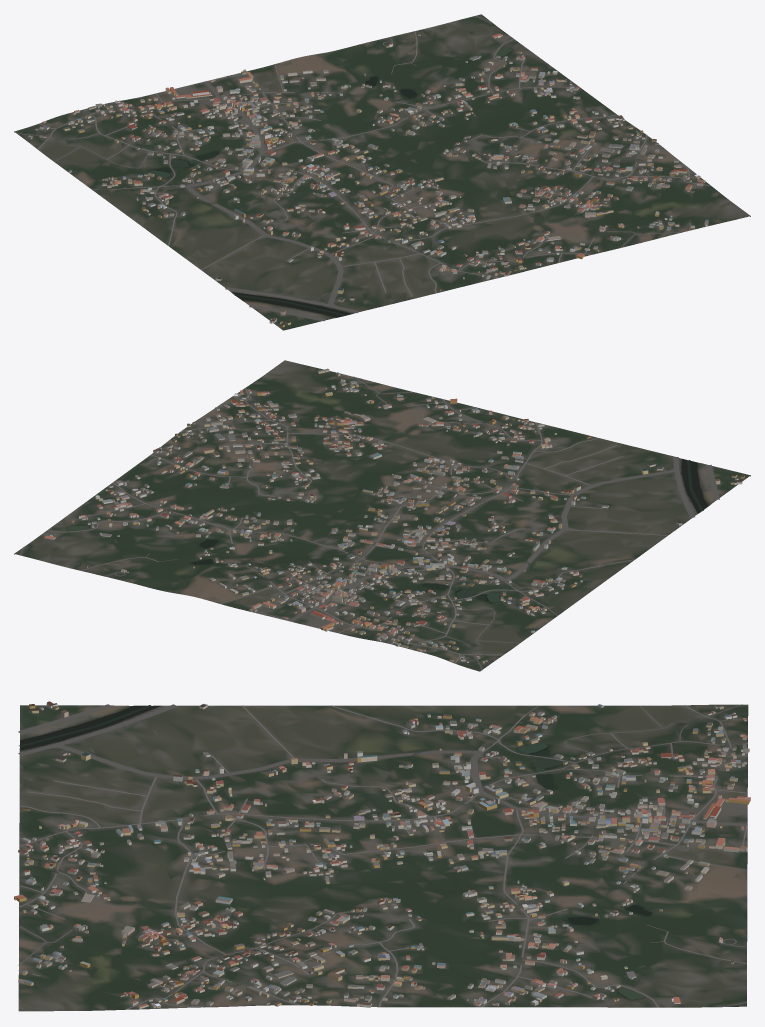
3 renders of one model, top to bottom at view 1: azimuth 30°, elevation 25°; view 2: azimuth 150°, elevation 25°; view 3: azimuth 270°, elevation 25°, orthographic. The views are drawn at different scales.
Parts seen in each view (by area): view 1: ground, buildings, roads, water; view 2: ground, buildings, roads, water; view 3: ground, buildings, roads, water.
Boxes of the visible parts, x1,y1,x2,y2 form: ground: (14, 14, 750, 330); buildings: (28, 33, 708, 327); roads: (16, 15, 710, 330); water: (149, 46, 512, 317); ground: (14, 360, 750, 671); buildings: (44, 368, 744, 663); roads: (20, 374, 750, 670); water: (67, 458, 707, 602); ground: (18, 704, 748, 1011); buildings: (14, 701, 750, 1008); roads: (18, 704, 747, 1009); water: (19, 705, 652, 999).
Bounding box in the file's own units: 1412 × 30.11 × 1419.
